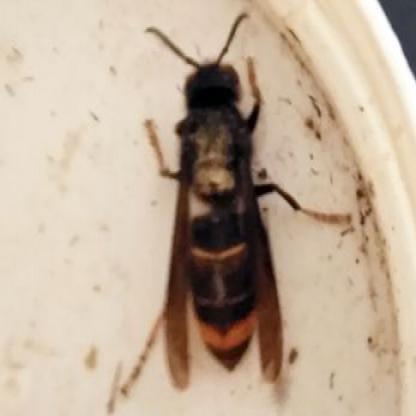Asian Hornet: (126, 17, 305, 379)
